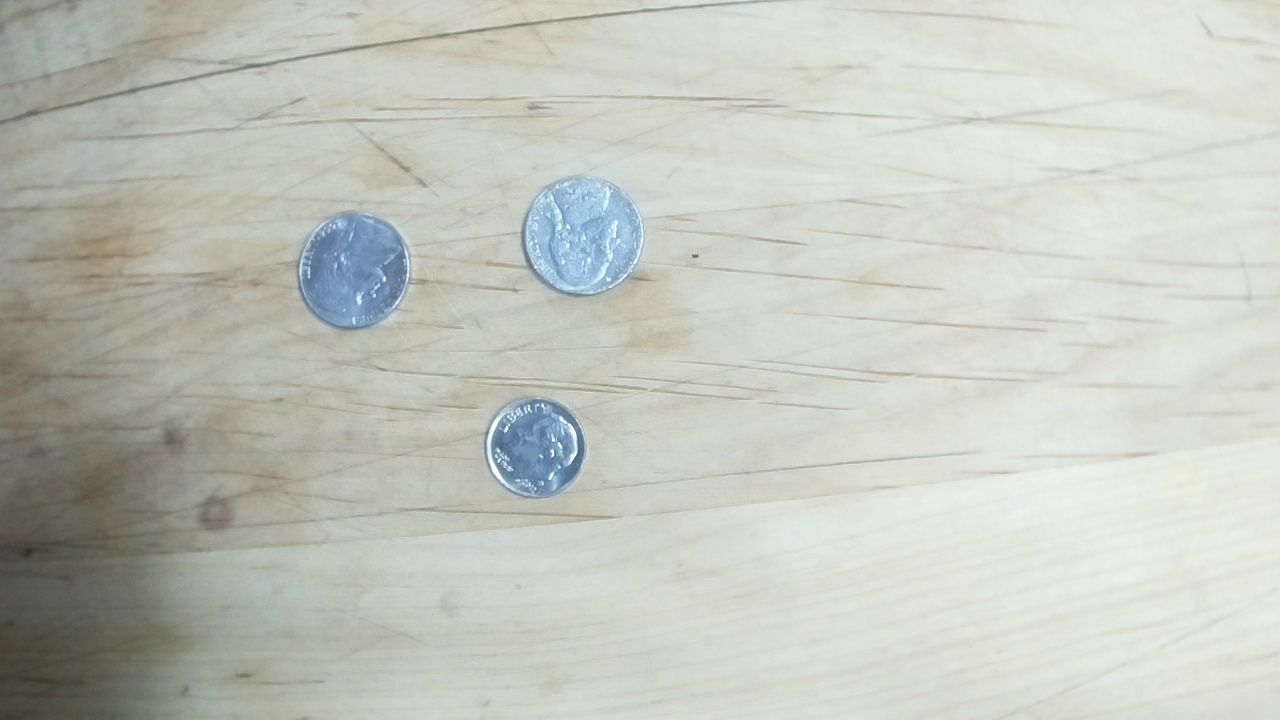dime: (484, 394, 586, 500)
nickel: (519, 174, 645, 298), (296, 210, 410, 332)
